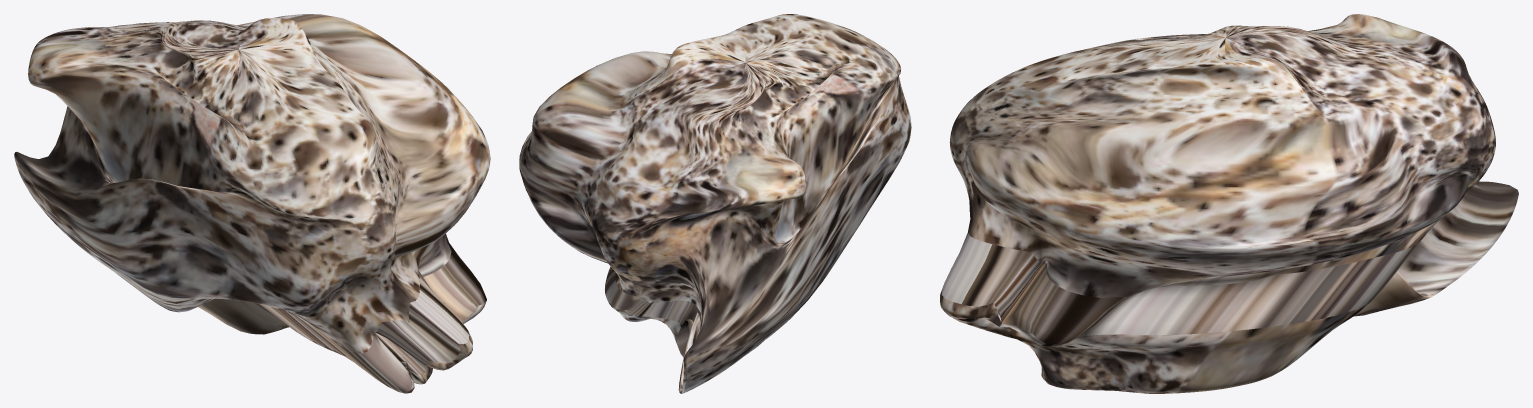
File: Pedra para Recife de Corais.fbx
3 renders of one model, left to right at view 1: azimuth 30°, elevation 25°; view 2: azimuth 150°, elevation 25°; view 3: azimuth 270°, elevation 25°, orthographic. The views are drawn at different scales.
Visible parts, largest first — view 1: recife_coral1; view 2: recife_coral1; view 3: recife_coral1.
Part boxes in pixels (bbox=[...]): recife_coral1: bbox=[14, 14, 490, 393]; recife_coral1: bbox=[519, 14, 911, 393]; recife_coral1: bbox=[940, 14, 1518, 393].
Bounding box in the file's own units: 1042 × 894 × 1493.
1 material, 1 textured.
